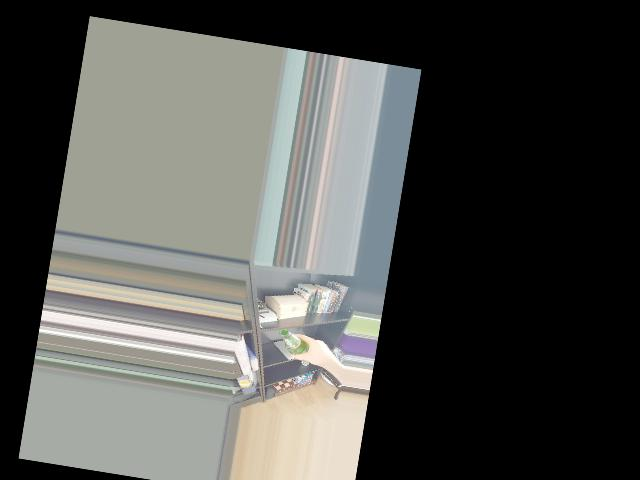beer: (275, 328, 313, 362)
